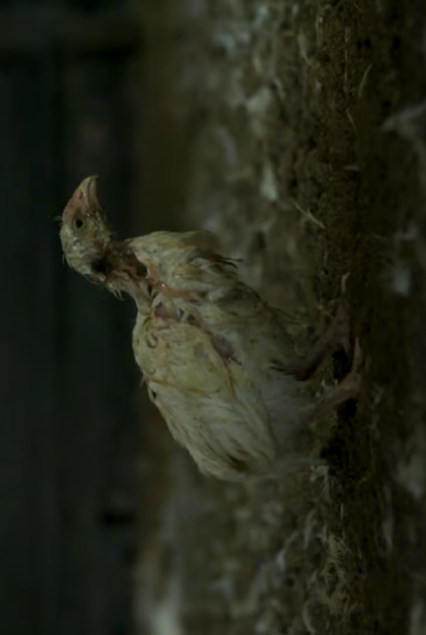Unhealthy: (34, 155, 380, 489)
